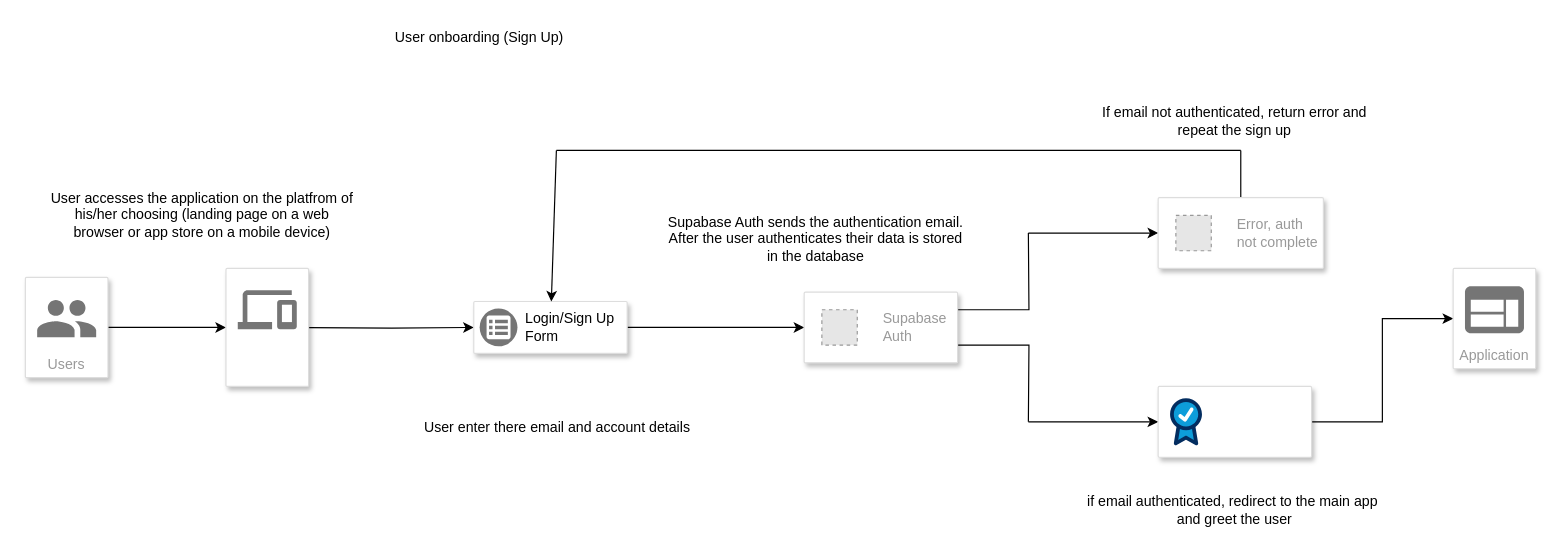
Image size: 1563x548. Some labels were removed from this diagram. Grey dashed boxes stand in for pictures. Here are the shapes that lost their labels. From the top down, the centre of each, then its label:
At point (268, 329): "Desktop and Mobile".
At point (1235, 423): "Success".
